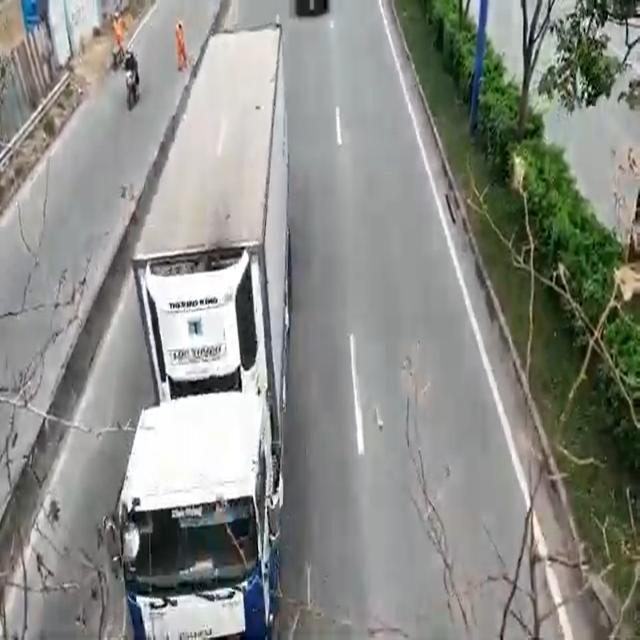motor: (122, 54, 136, 108)
truck: (132, 22, 282, 640)
